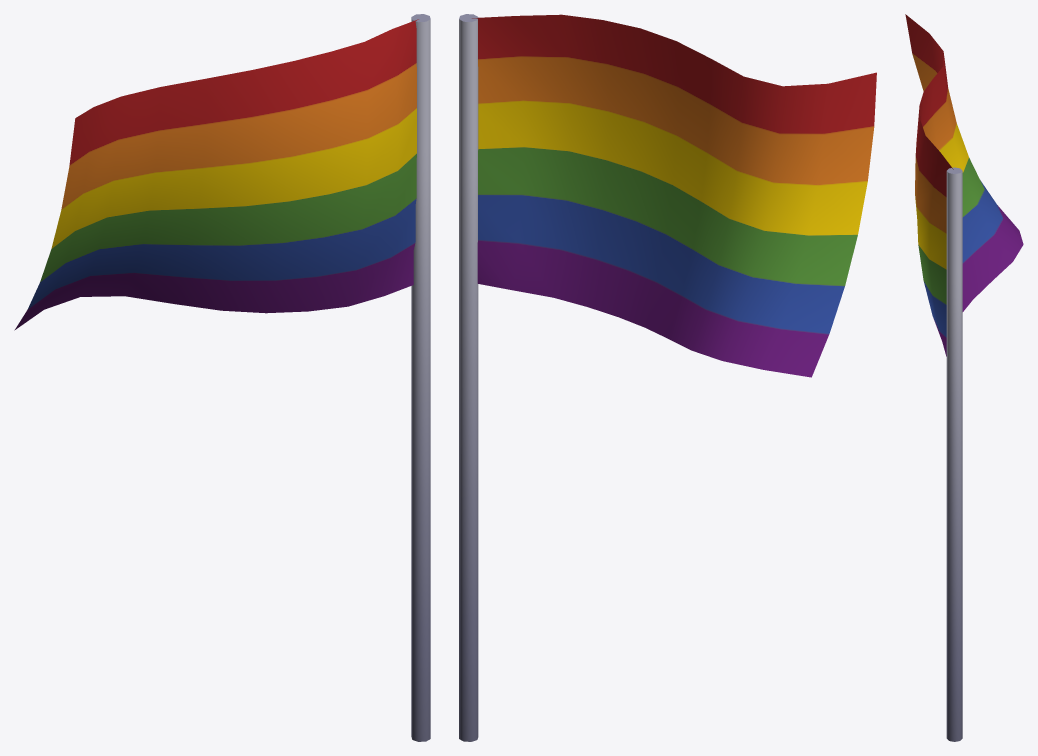
File: m_Pride_HandheldFlag01_Wavy.fbx
3 renders of one model, left to right at view 1: azimuth 30°, elevation 25°; view 2: azimuth 150°, elevation 25°; view 3: azimuth 270°, elevation 25°, orthographic. The views are drawn at different scales.
Parts seen in each view (by area): view 1: m_Pride_HandheldFlag01_Wavy; view 2: m_Pride_HandheldFlag01_Wavy; view 3: m_Pride_HandheldFlag01_Wavy.
Part boxes in pixels (box(x1,y1,x2,y2)): m_Pride_HandheldFlag01_Wavy: box(14, 14, 430, 741); m_Pride_HandheldFlag01_Wavy: box(459, 14, 876, 741); m_Pride_HandheldFlag01_Wavy: box(905, 14, 1023, 741).
Bounding box in the file's own units: 21.45 × 38.78 × 7.17.
